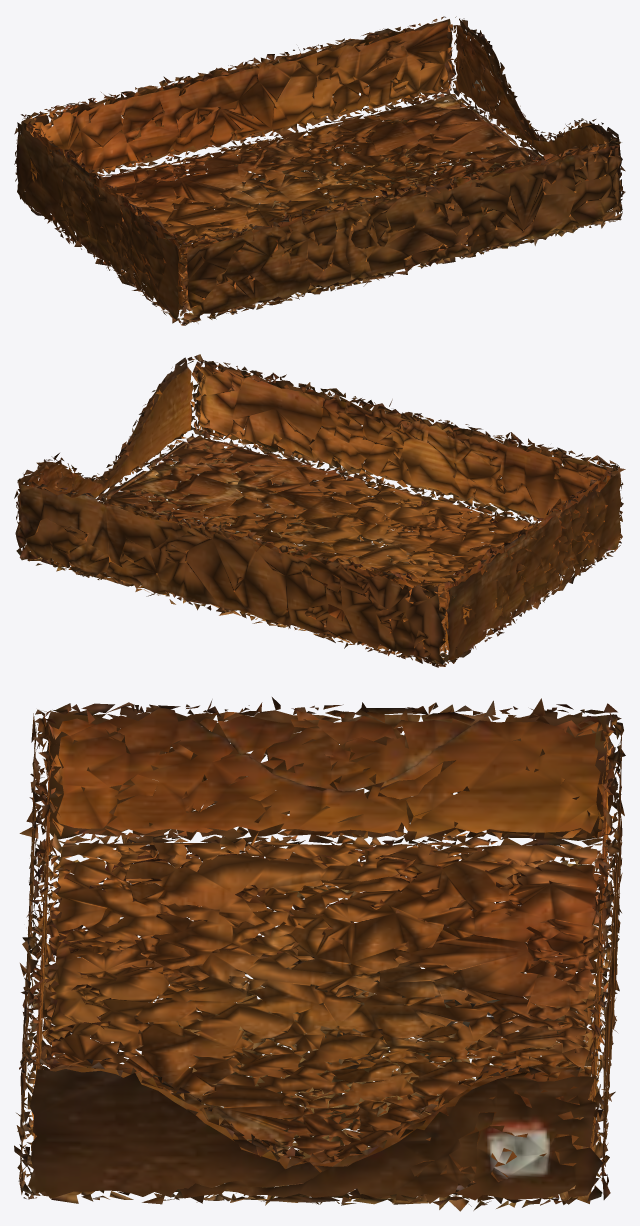
File: filing-tray-wood.glb
The picture shows the model from 3 angles, top to bottom: view 1: azimuth 30°, elevation 25°; view 2: azimuth 150°, elevation 25°; view 3: azimuth 270°, elevation 25°; orthographic projection. The views are drawn at different scales.
Visible parts, largest first — view 1: Object_0; view 2: Object_0; view 3: Object_0.
Boxes of the visible parts, x1,y1,x2,y2 form: Object_0: (14, 16, 625, 325); Object_0: (14, 354, 625, 667); Object_0: (14, 697, 625, 1211).
Bounding box in the file's own units: 0.3441 × 0.0717 × 0.2397.
1 material, 1 textured.
